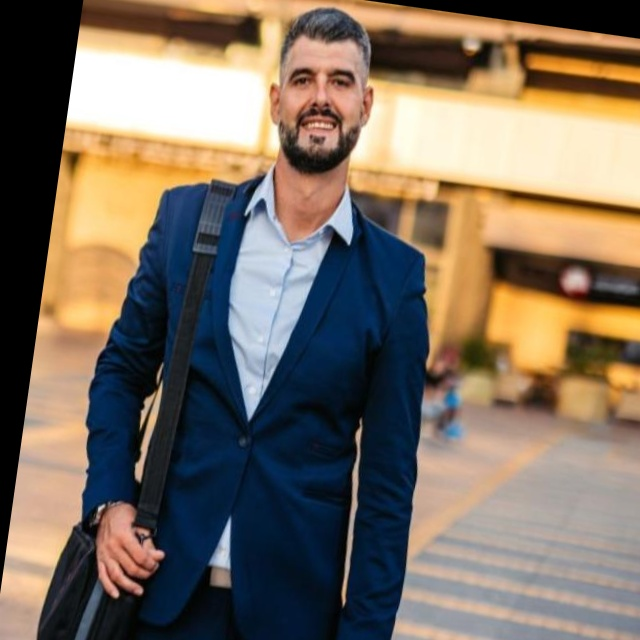Sin_Casco_Mascarrilla: (259, 0, 388, 178)
Sin_Chaleco: (106, 160, 445, 621)
